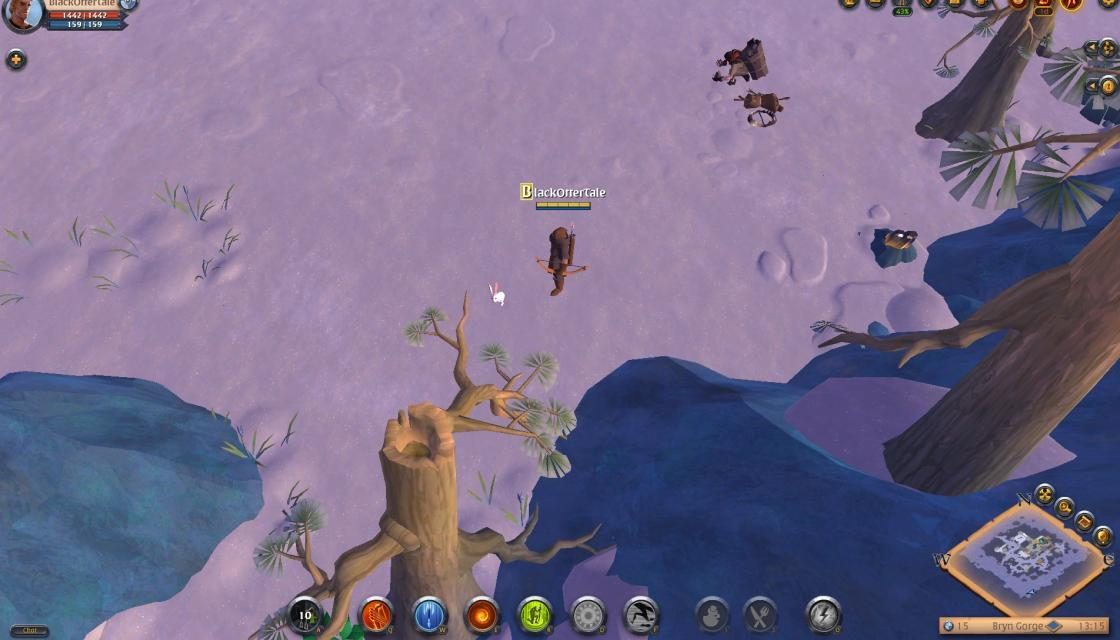copperore: (870, 218, 922, 274)
